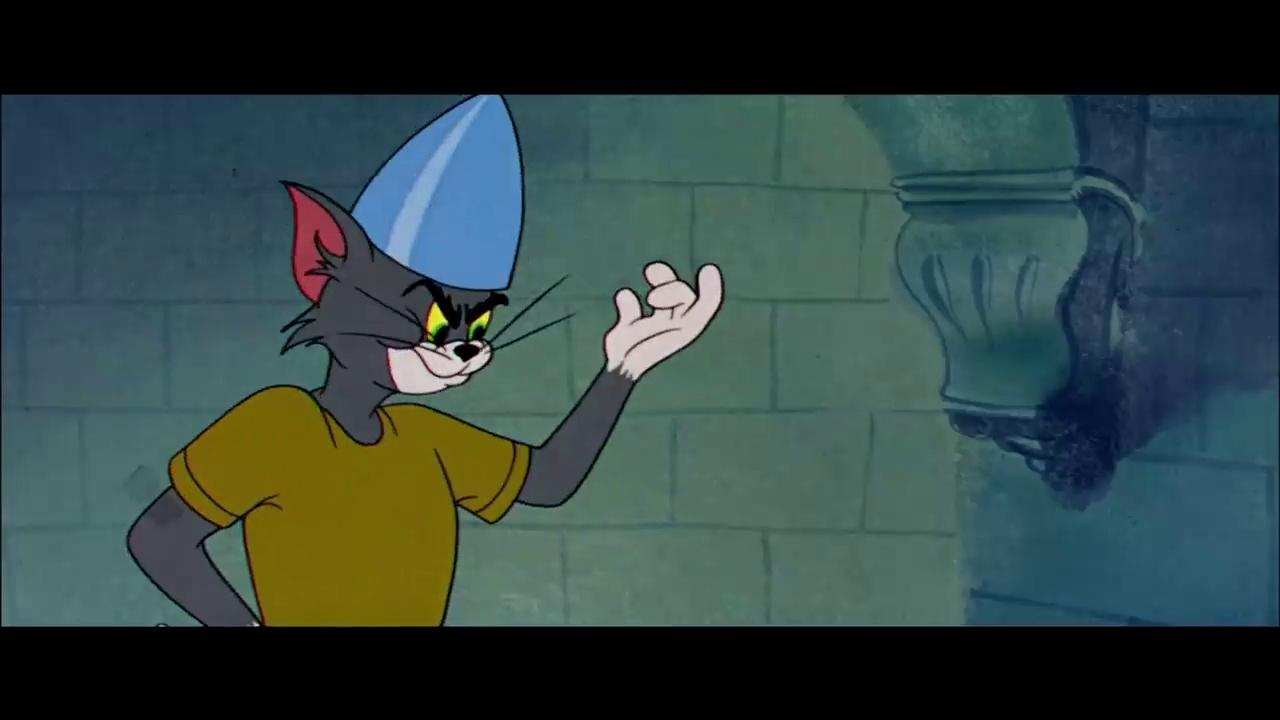Tom: (124, 177, 726, 627)
